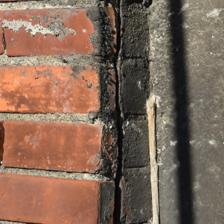Crack: (55, 3, 72, 216)
